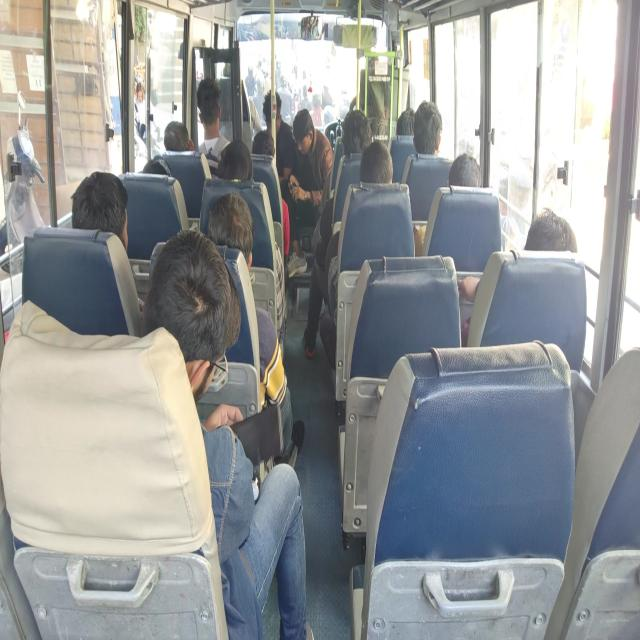person: (158, 258, 266, 380), (200, 188, 259, 278), (523, 203, 580, 278), (358, 135, 402, 199), (213, 137, 268, 186), (77, 169, 121, 228), (419, 98, 450, 178), (262, 92, 296, 153), (290, 115, 321, 169), (452, 160, 491, 198), (157, 118, 193, 159), (345, 115, 373, 162), (143, 155, 177, 190), (196, 84, 222, 129), (398, 104, 422, 139)
